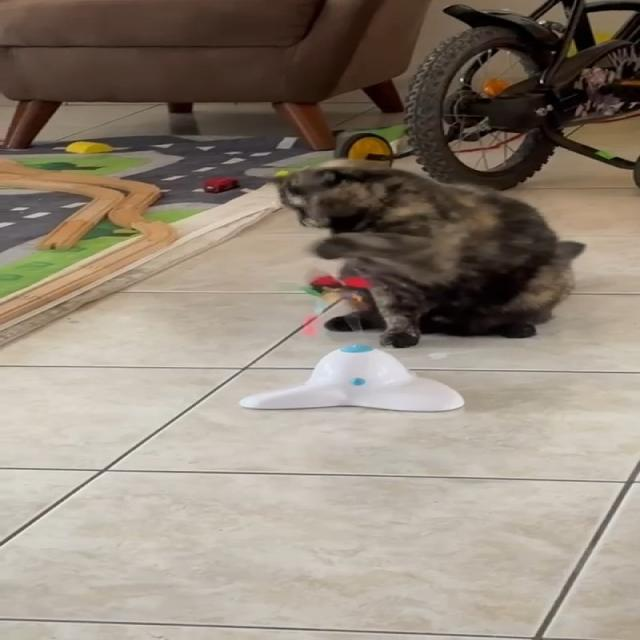authorized: (274, 164, 586, 348)
